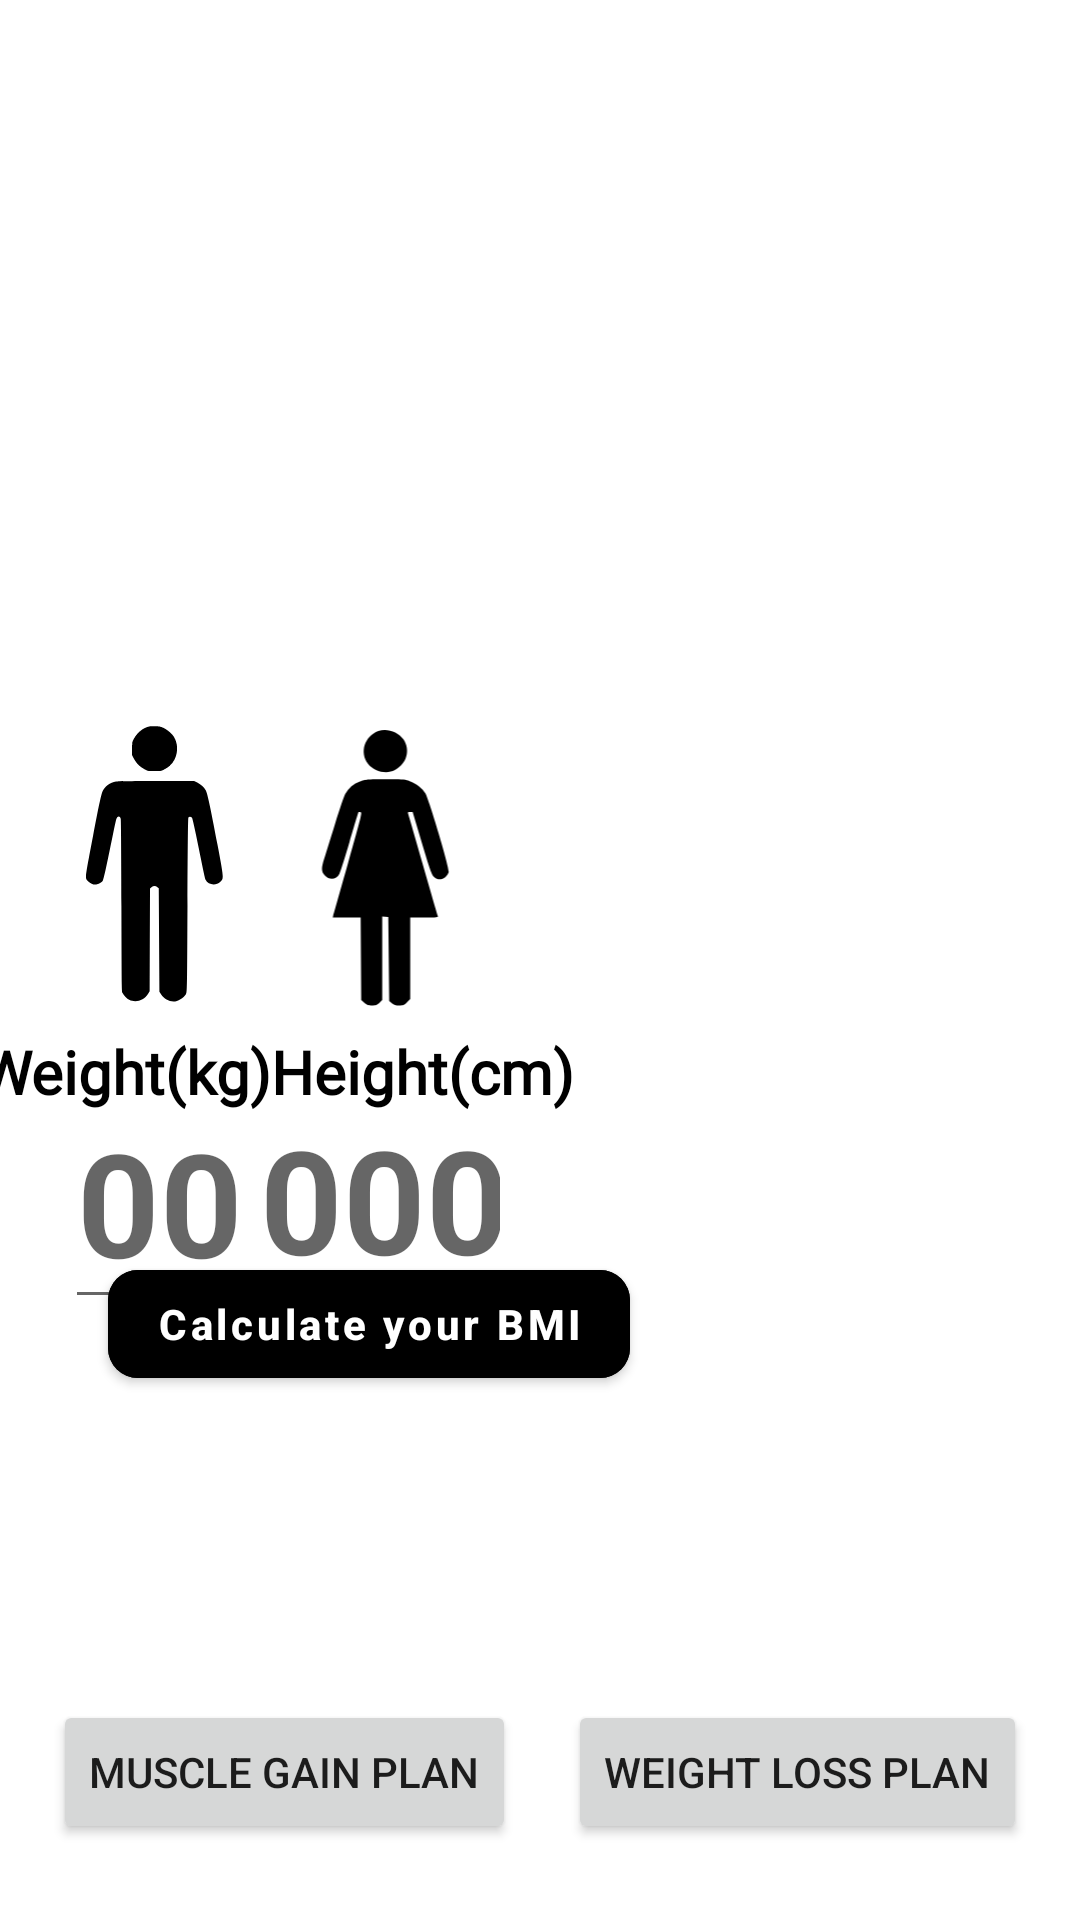

Icon bounding boxes for this 1080px×1920px phone screenshot, format (x1, y1, x2, y2):
female: (321, 730, 449, 1006)
male: (86, 726, 223, 1002)
